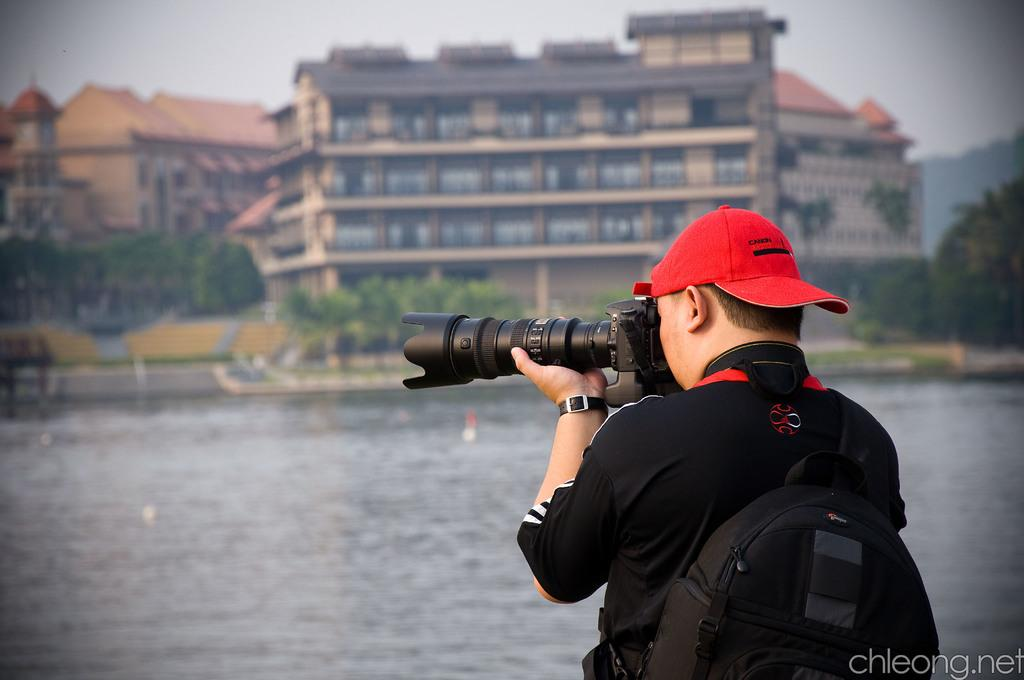Hat: (632, 202, 846, 313)
